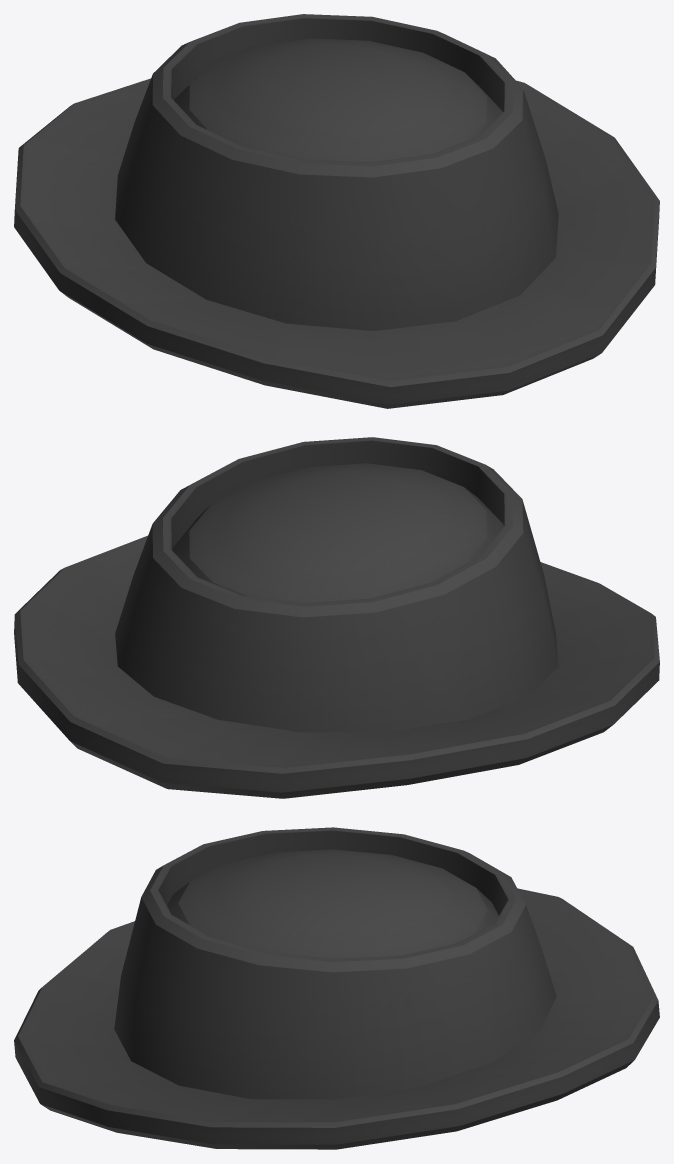
Rendered from importerSkin10Hat.fbx.
3 views of the same model, one above another, from view 1: azimuth 30°, elevation 25°; view 2: azimuth 150°, elevation 25°; view 3: azimuth 270°, elevation 25° (orthographic). The views are drawn at different scales.
Visible parts, largest first — view 1: imposterSkin10_hat_geo; view 2: imposterSkin10_hat_geo; view 3: imposterSkin10_hat_geo.
Part boxes in pixels (x1,y1,x2,y2): imposterSkin10_hat_geo: (14,14,659,408); imposterSkin10_hat_geo: (14,437,659,798); imposterSkin10_hat_geo: (14,827,659,1149).
Size of the model in its own units: 2.92 by 1.02 by 3.17.
Materials: 1 (1 with a texture image).
